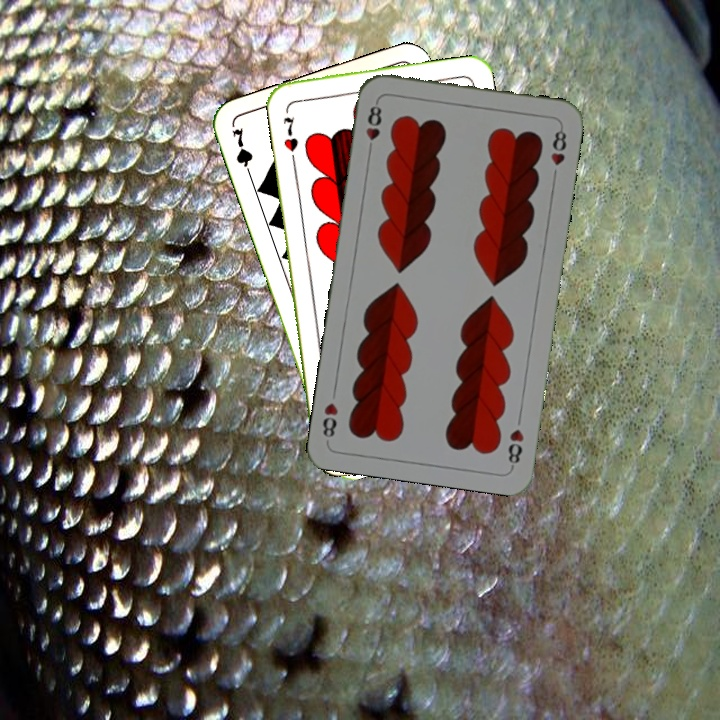G7: (228, 123, 256, 182)
H7: (279, 112, 301, 164)
H8: (362, 97, 384, 156), (504, 425, 527, 470)
